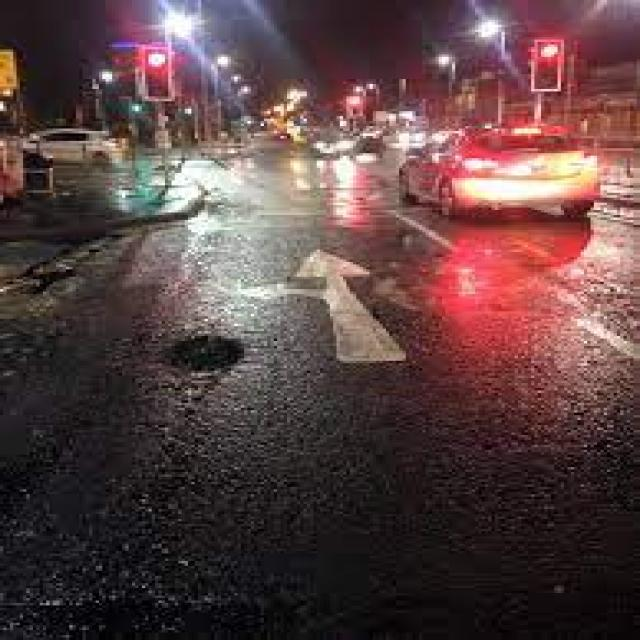Potholes: (156, 316, 260, 392)
